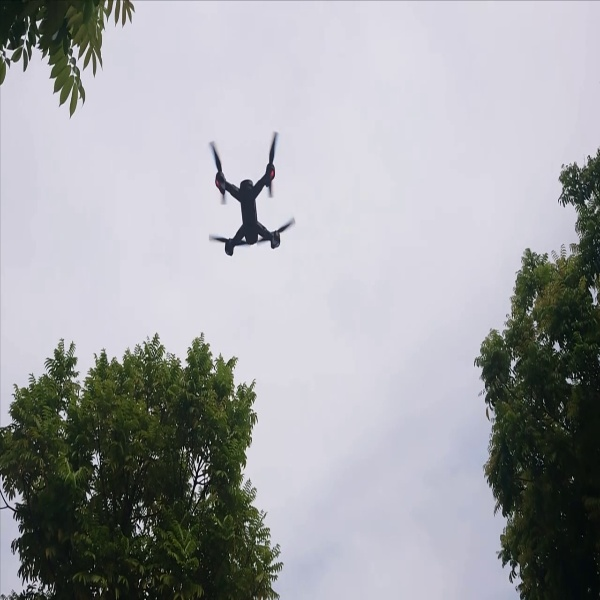drone: (198, 122, 301, 259)
